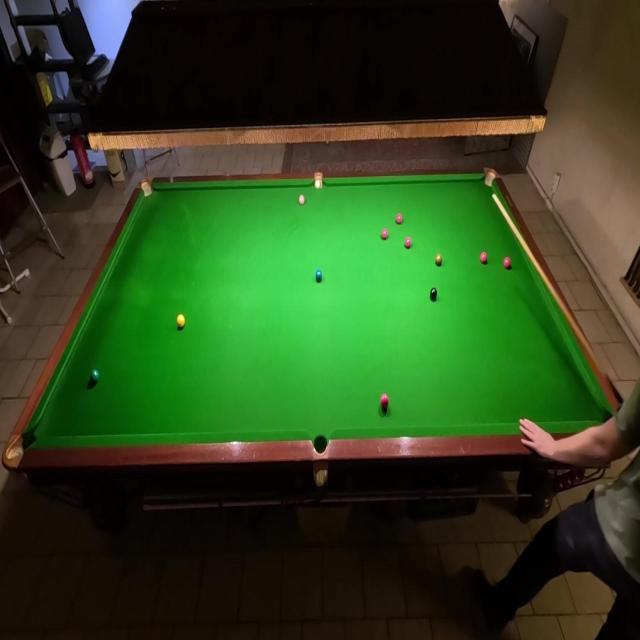Ball: (89, 368, 99, 383), (502, 256, 512, 270), (381, 392, 388, 410), (177, 314, 186, 328), (430, 287, 438, 301), (404, 236, 412, 249), (480, 252, 488, 264), (298, 194, 306, 206), (434, 254, 442, 266), (381, 228, 388, 240), (396, 212, 402, 225), (316, 269, 322, 282), (314, 180, 321, 190)
